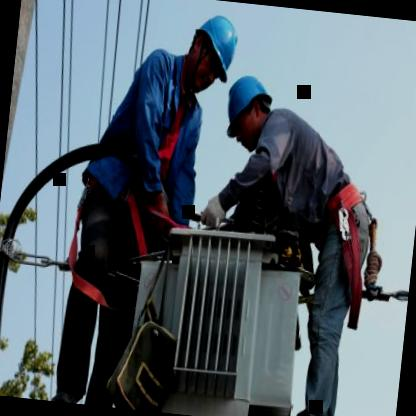helmet: (178, 3, 246, 103), (216, 61, 281, 150)
